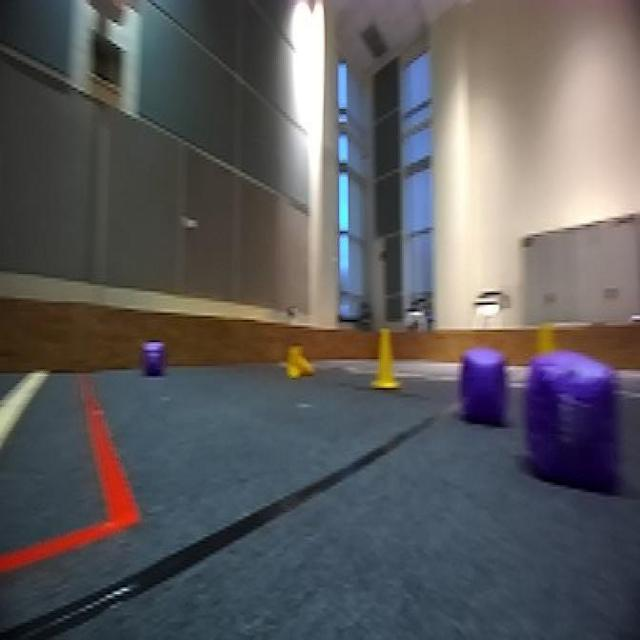frc_cone: (369, 325, 401, 393), (285, 344, 314, 378)
frc_cube: (521, 349, 623, 494), (456, 342, 514, 424), (140, 340, 168, 383)
